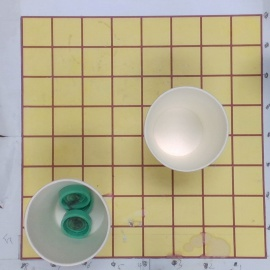cup: (144, 84, 228, 174)
cup_green: (24, 179, 111, 266)
